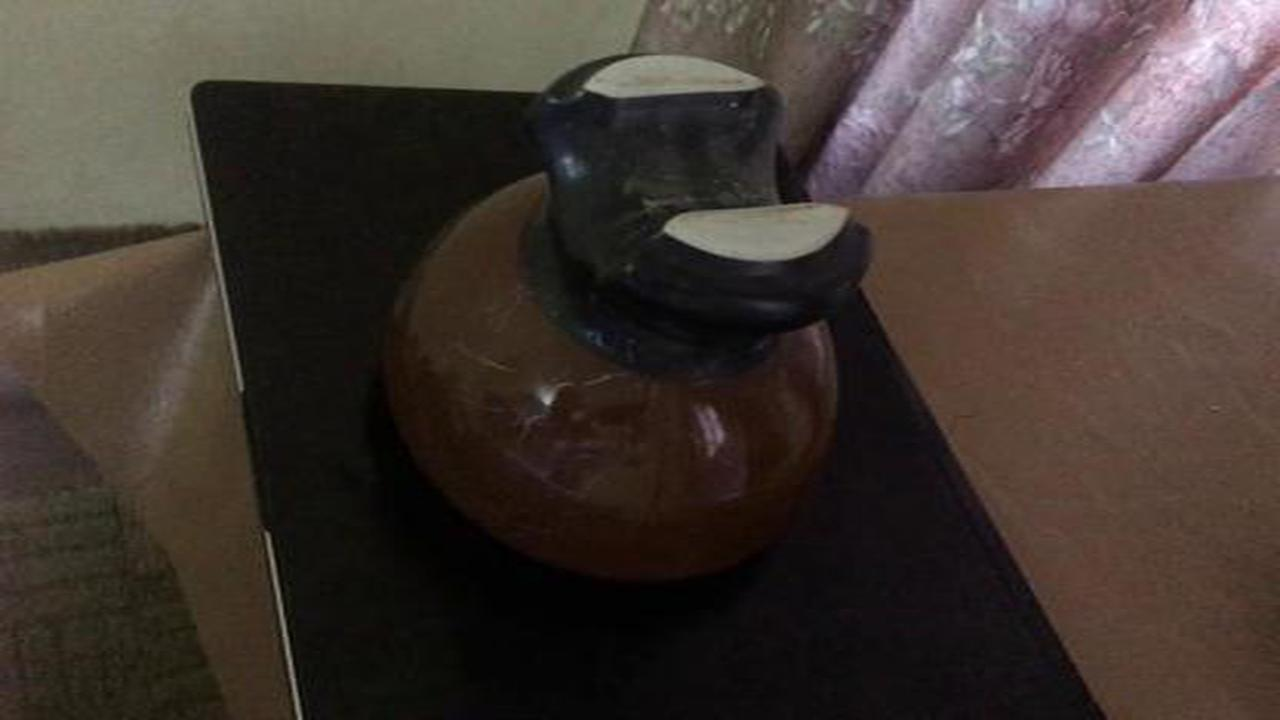insulator_pin: (370, 37, 887, 608)
